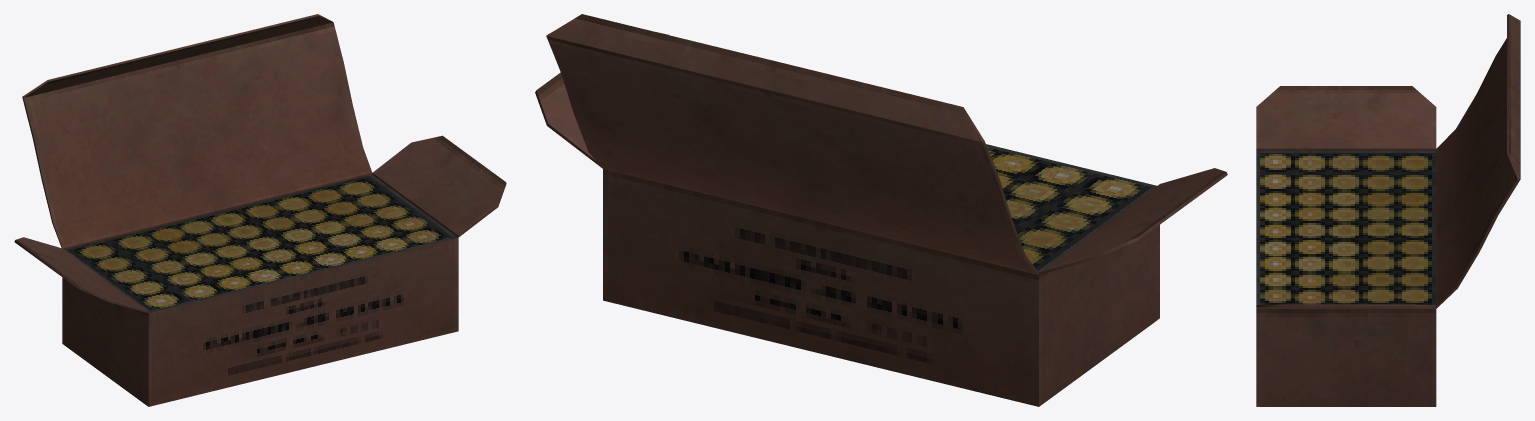
The model's file is ammo_box_mp_1.glb.
3 views of the same model, side by side, from view 1: azimuth 30°, elevation 25°; view 2: azimuth 150°, elevation 25°; view 3: azimuth 270°, elevation 25° (orthographic). The views are drawn at different scales.
Parts seen in each view (by area): view 1: ammo_box_mp_1; view 2: ammo_box_mp_1; view 3: ammo_box_mp_1.
Part boxes in pixels (x1=…): ammo_box_mp_1: x1=14, y1=14, x2=506, y2=406; ammo_box_mp_1: x1=535, y1=14, x2=1227, y2=406; ammo_box_mp_1: x1=1256, y1=14, x2=1520, y2=406.
Bounding box in the file's own units: 0.2159 × 0.1124 × 0.1101.
1 material, 1 textured.
